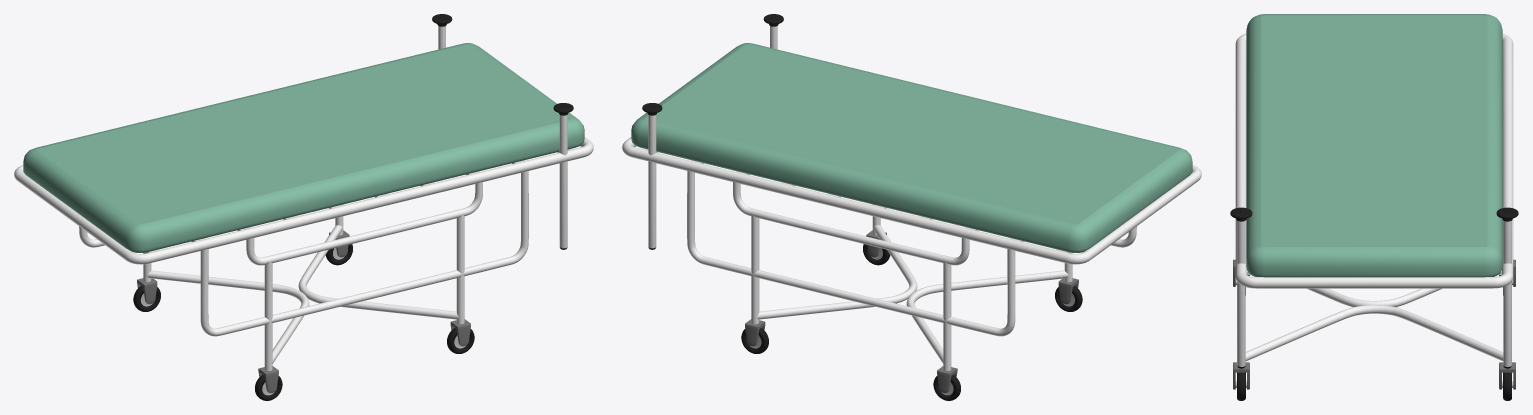
The picture shows the model from 3 angles, left to right: view 1: azimuth 30°, elevation 25°; view 2: azimuth 150°, elevation 25°; view 3: azimuth 270°, elevation 25°; orthographic projection. The views are drawn at different scales.
Parts seen in each view (by area): view 1: Bed_02; view 2: Bed_02; view 3: Bed_02.
Part boxes in pixels (x1,y1,x2,y2): Bed_02: (14, 14, 593, 400); Bed_02: (622, 14, 1201, 400); Bed_02: (1230, 14, 1518, 400).
Size of the model in its own units: 803 by 366 by 392.
